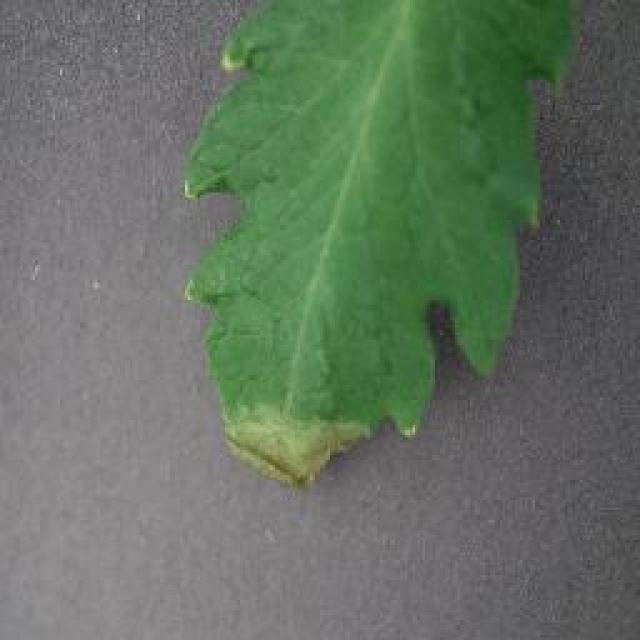Tomato___Late_blight: (181, 2, 572, 486)
